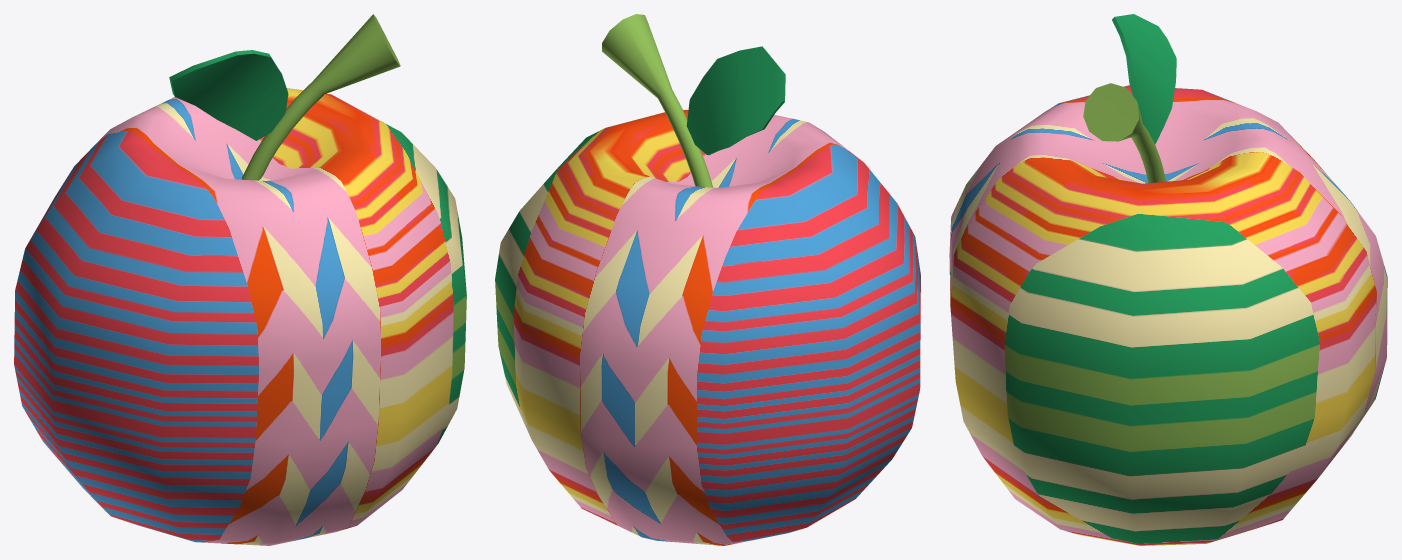
The model's file is M_apple.fbx.
3 renders of one model, left to right at view 1: azimuth 30°, elevation 25°; view 2: azimuth 150°, elevation 25°; view 3: azimuth 270°, elevation 25°, orthographic. The views are drawn at different scales.
Visible parts, largest first — view 1: apple; view 2: apple; view 3: apple.
Boxes of the visible parts, x1,y1,x2,y2 form: apple: (14,14,466,545); apple: (495,14,920,545); apple: (949,14,1387,545).
Bounding box in the file's own units: 50.28 × 55.7 × 47.15.
